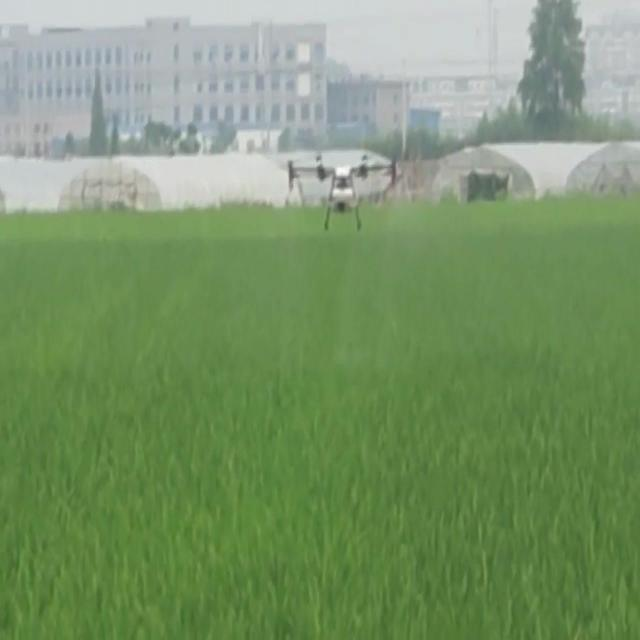UAV: (284, 154, 404, 232)
